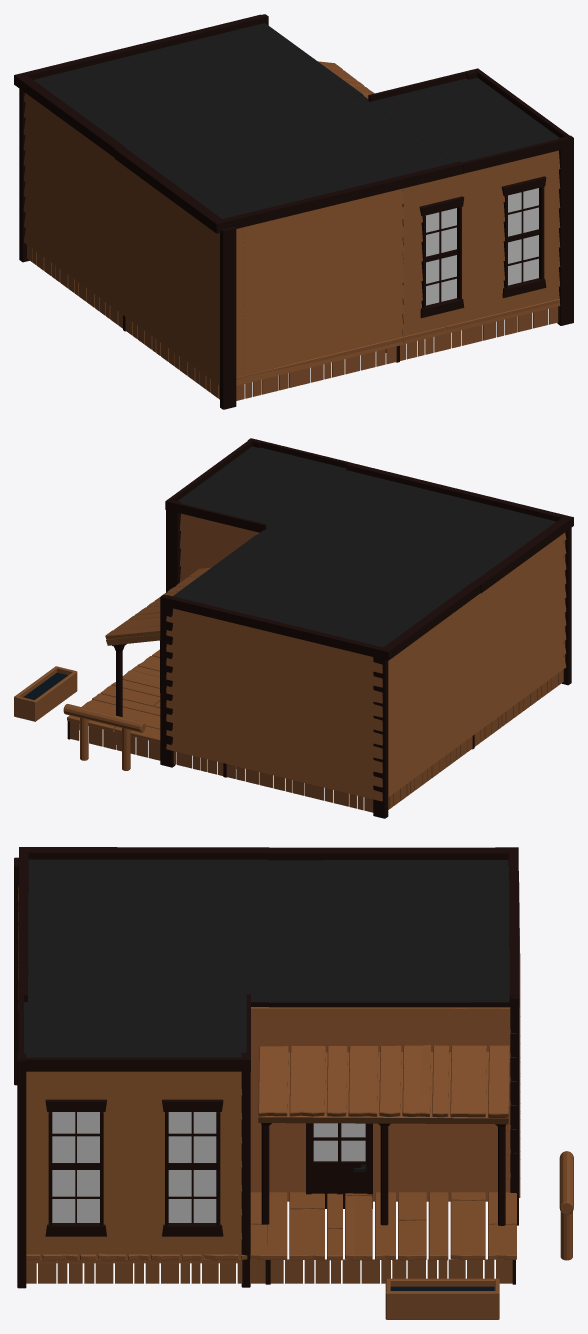
File: casa2.obj
3 views of the same model, one above another, from view 1: azimuth 30°, elevation 25°; view 2: azimuth 150°, elevation 25°; view 3: azimuth 270°, elevation 25° (orthographic). The views are drawn at different scales.
Parts seen in each view (by area): view 1: Roof_B.026; view 2: Roof_B.026; view 3: Roof_B.026.
Part boxes in pixels (bbox=[...]): Roof_B.026: bbox=[14, 14, 573, 409]; Roof_B.026: bbox=[14, 438, 573, 818]; Roof_B.026: bbox=[14, 847, 573, 1319].
Size of the model in its own units: 7.88 by 3.31 by 7.38.
